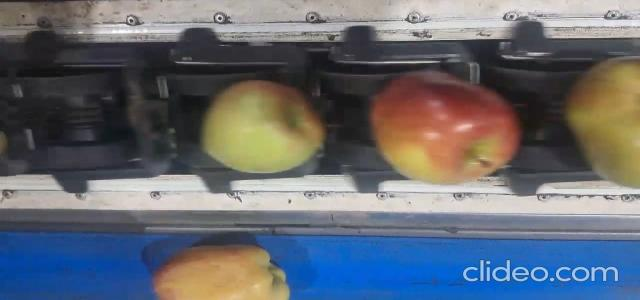apple: (370, 71, 521, 183), (201, 80, 325, 173)
